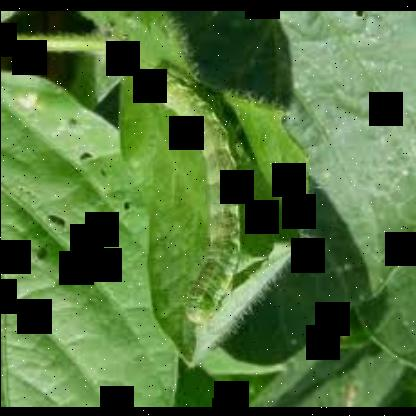oruga: (148, 66, 247, 322)
